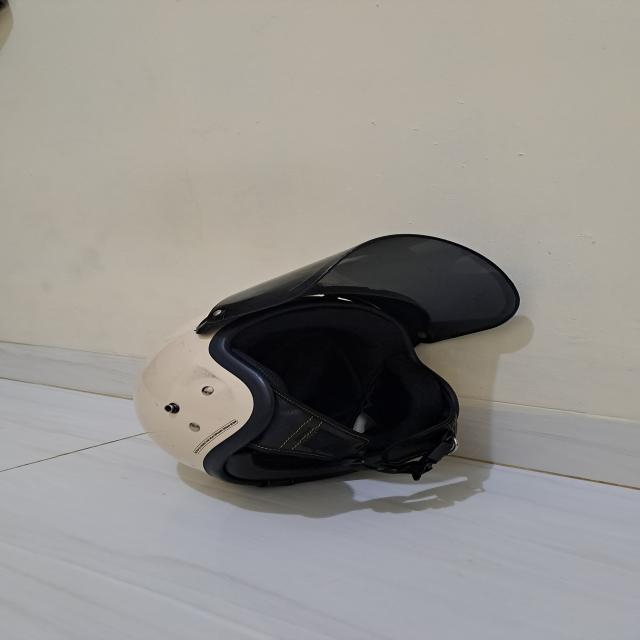Helm: (126, 221, 530, 498)
